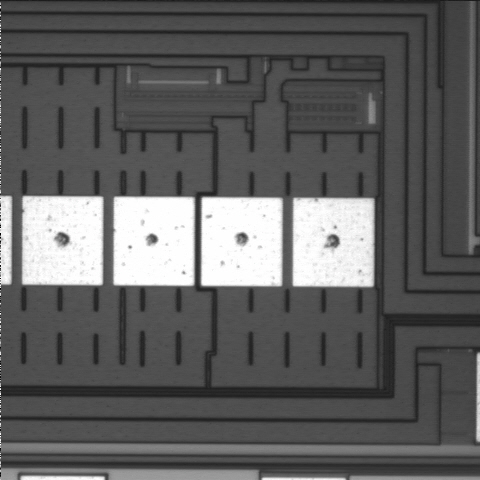pad: (113, 197, 195, 286), (201, 197, 283, 286), (22, 196, 103, 285), (293, 198, 374, 287)
